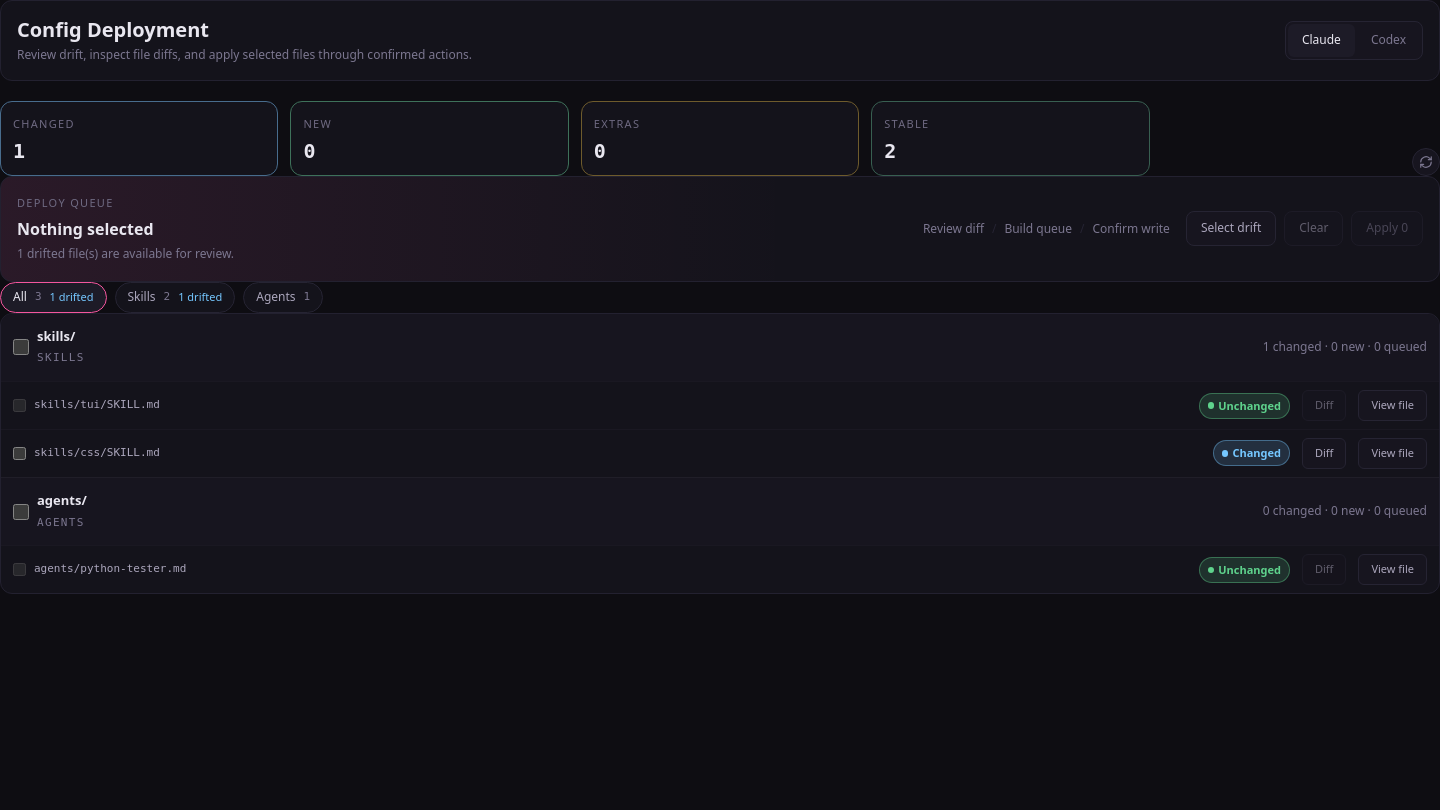
Deploy config tree › shows a diff only once asked, not as a permanent panel
Expected: the text "skills/css/SKILL.md" is shown, x1=34 y1=443 x2=160 y2=464
Click the button "Diff" in the row of "skills/css/SKILL.md" at [1324, 453], box x1=1302 y1=438 x2=1346 y2=469
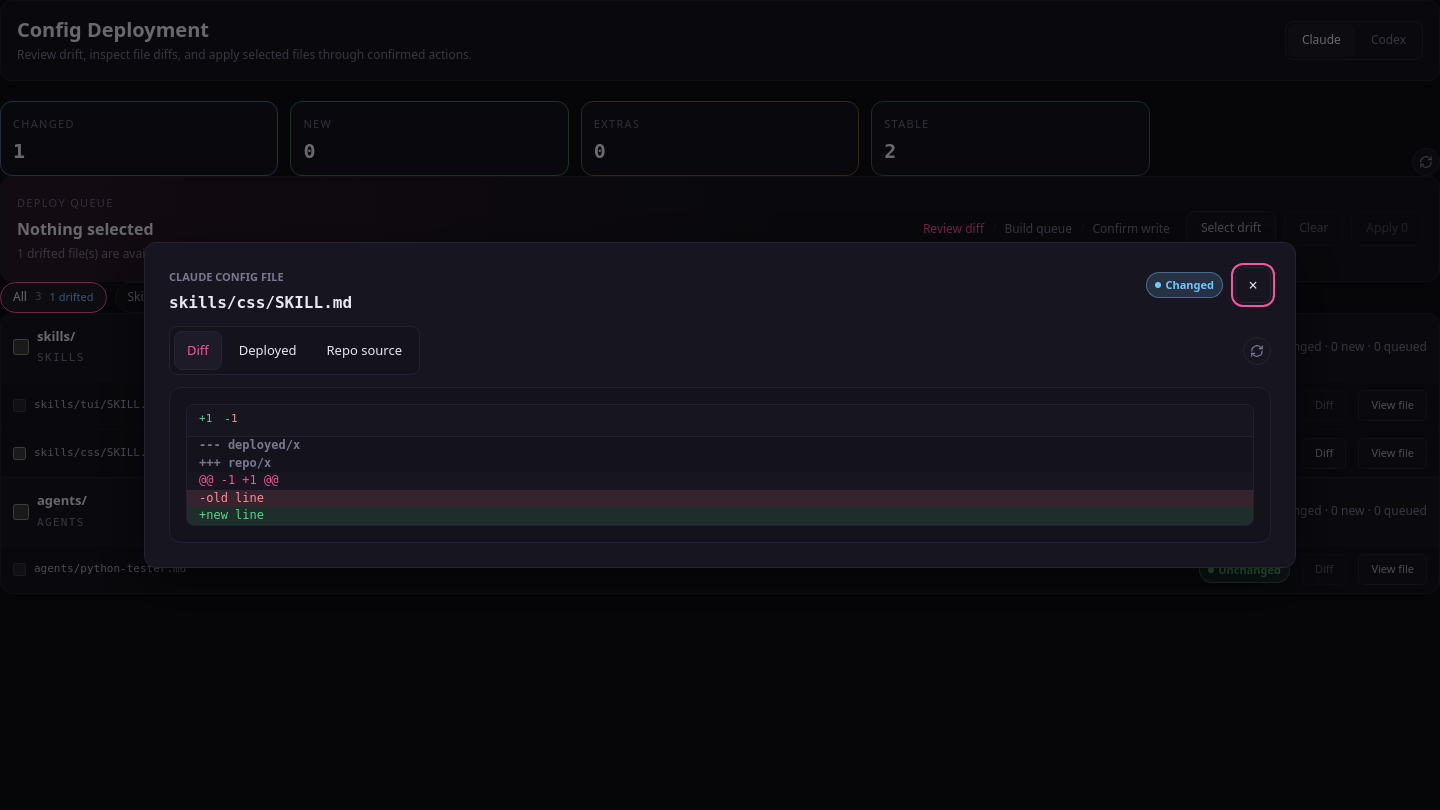
Now the element named "Unified diff" is shown, box x1=187 y1=437 x2=1253 y2=525
